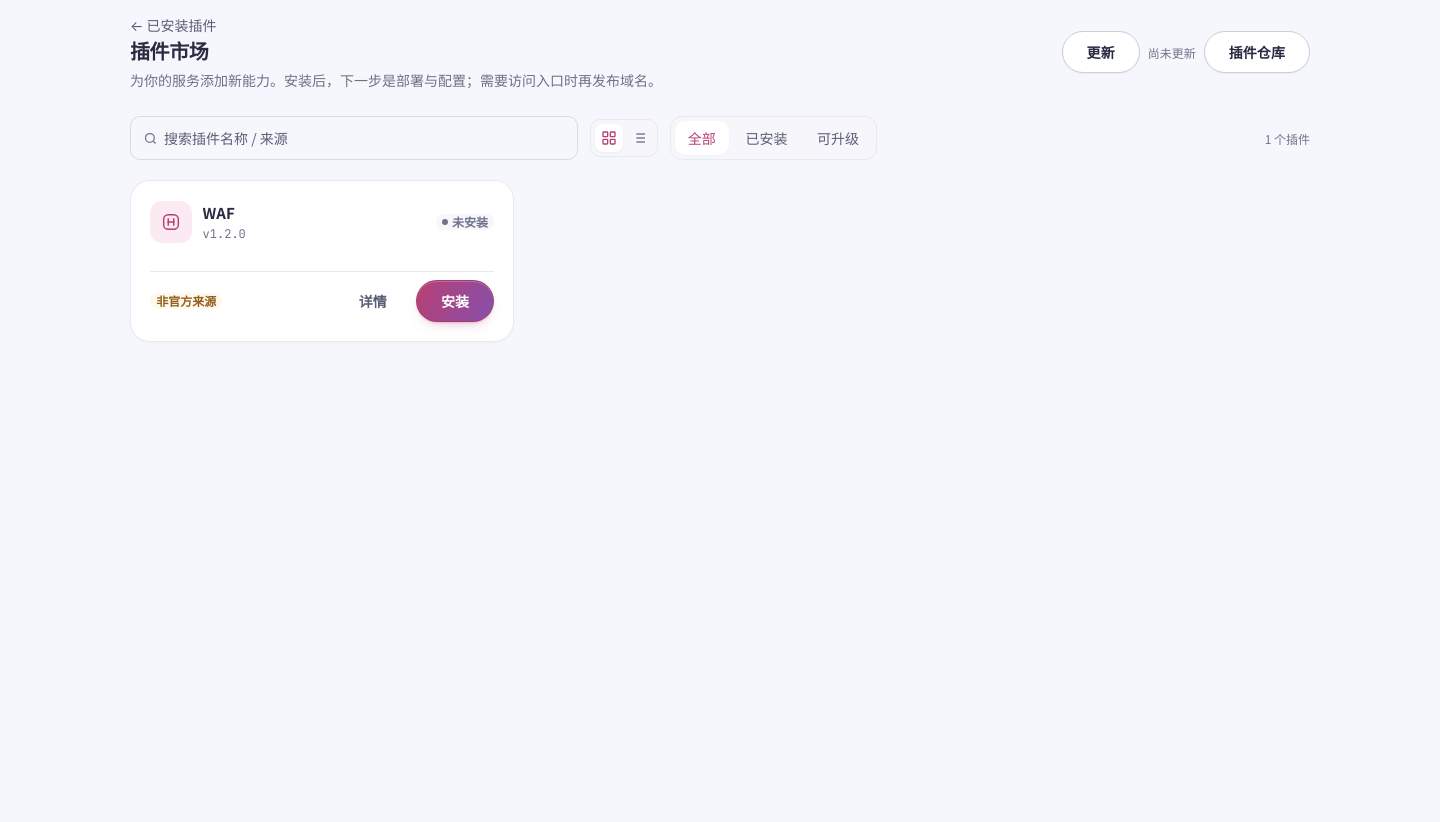
Test: PluginMarketplacePage › reports submission timeouts without claiming the package download failed
The image size is (1440, 822).
Click the button "安装" at (455,301), box x1=416 y1=280 x2=494 y2=322
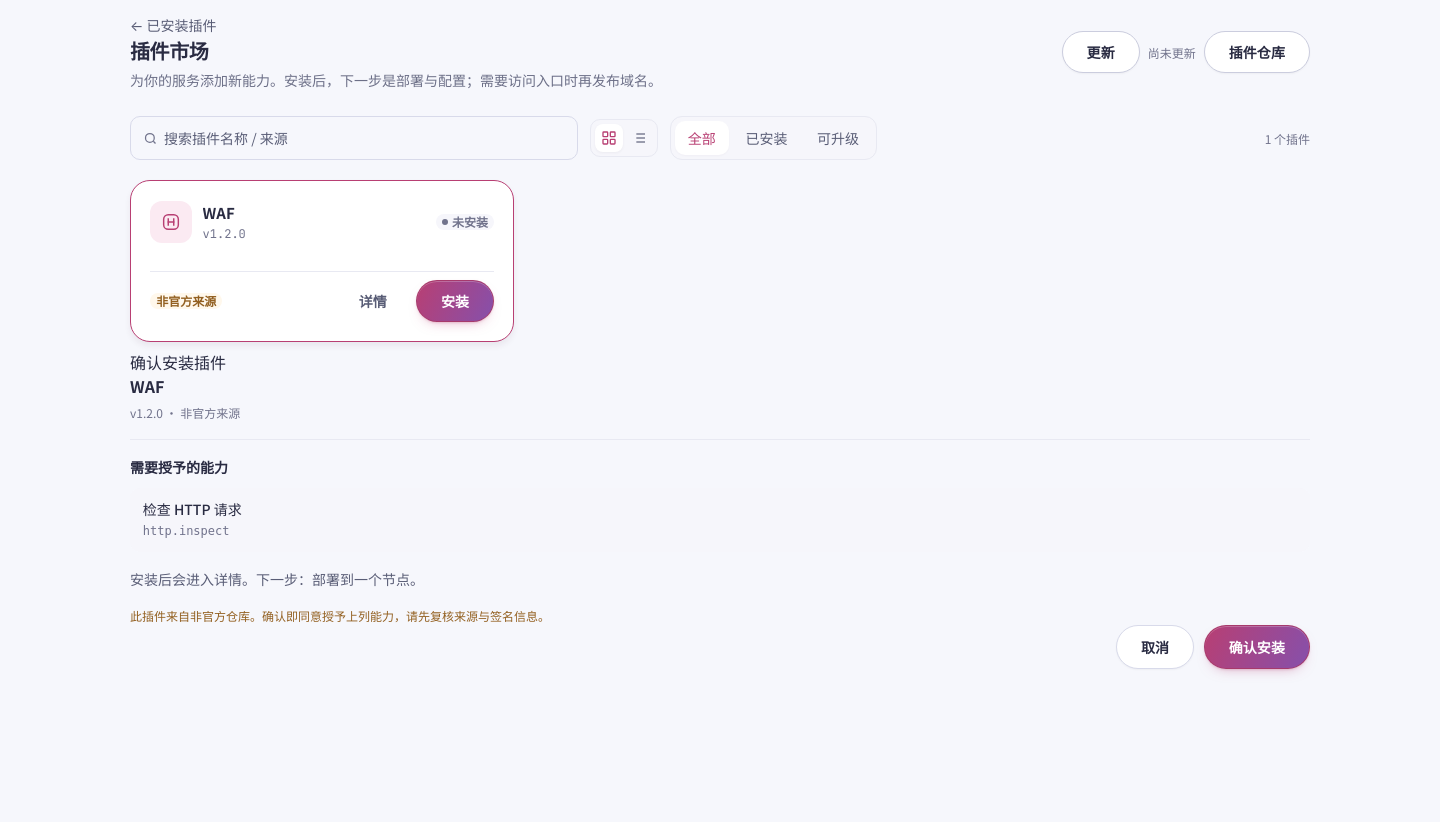
Click the button with test id "marketplace-confirm-submit" at (1257,647), box x1=1204 y1=625 x2=1310 y2=669
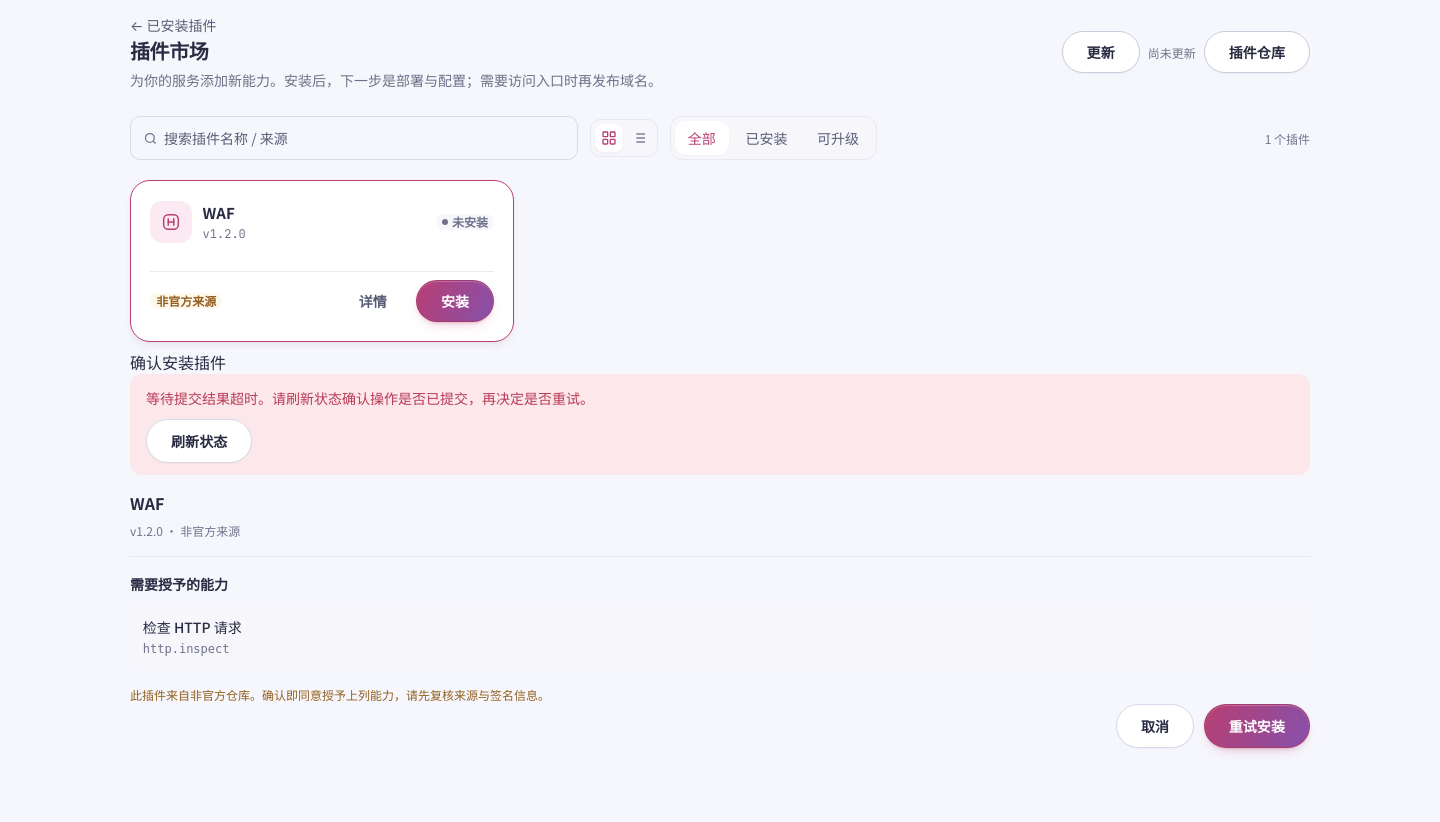
expect the message with test id "marketplace-action-error" shows "等待提交结果超时": met, box x1=146 y1=388 x2=594 y2=408
